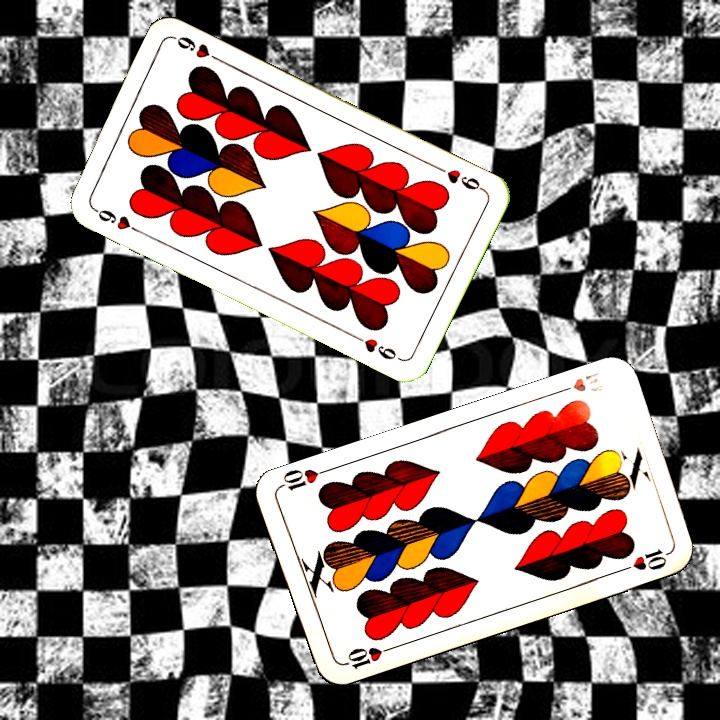H10: (337, 642, 395, 672), (552, 367, 602, 397)
H9: (88, 202, 143, 235), (431, 162, 487, 194)
